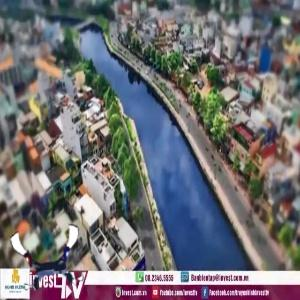drone: (12, 222, 84, 294)
